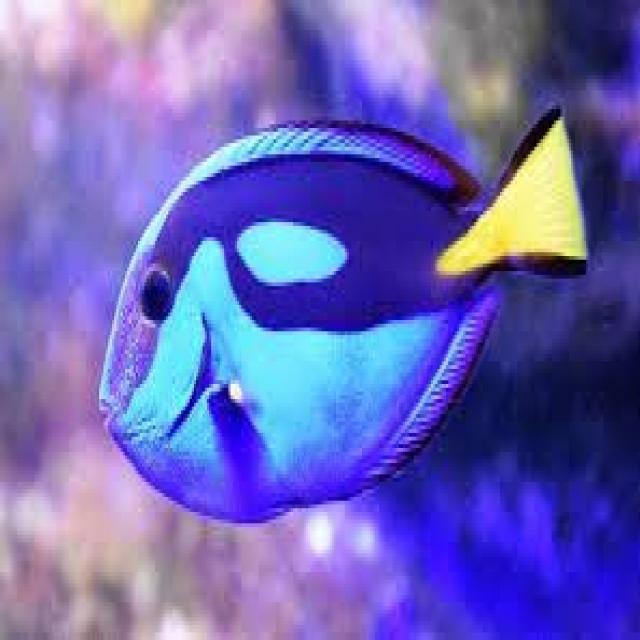TangFish: (92, 92, 587, 523)
